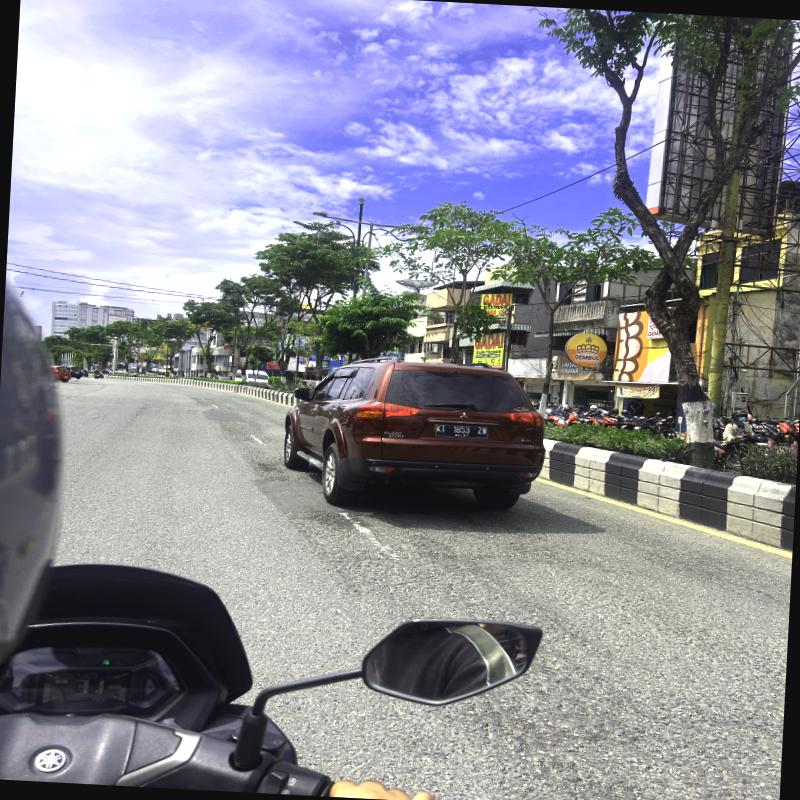license plate on a car: (435, 423, 488, 439)
